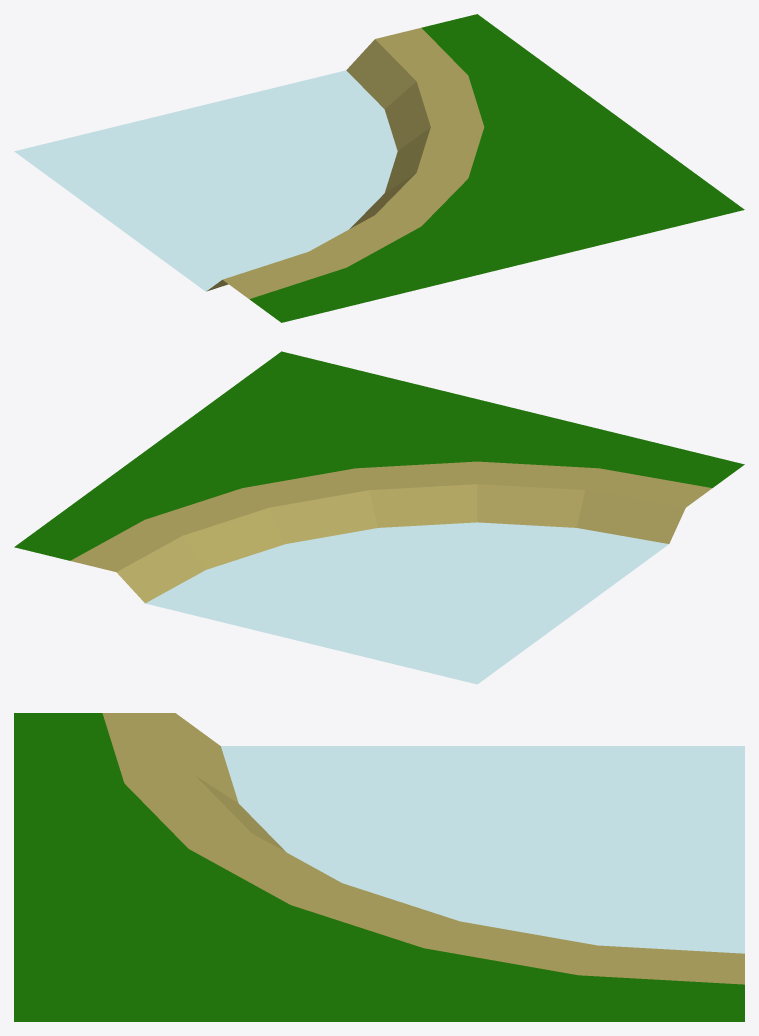
File: ground_riverCorner.fbx
The picture shows the model from 3 angles, top to bottom: view 1: azimuth 30°, elevation 25°; view 2: azimuth 150°, elevation 25°; view 3: azimuth 270°, elevation 25°; orthographic projection. The views are drawn at different scales.
Parts seen in each view (by area): view 1: ground_riverCorner; view 2: ground_riverCorner; view 3: ground_riverCorner.
Part boxes in pixels (x1,y1,x2,y2): ground_riverCorner: (14,14,744,322); ground_riverCorner: (14,351,744,684); ground_riverCorner: (14,713,744,1021).
Bounding box in the file's own units: 100 × 5 × 100.
